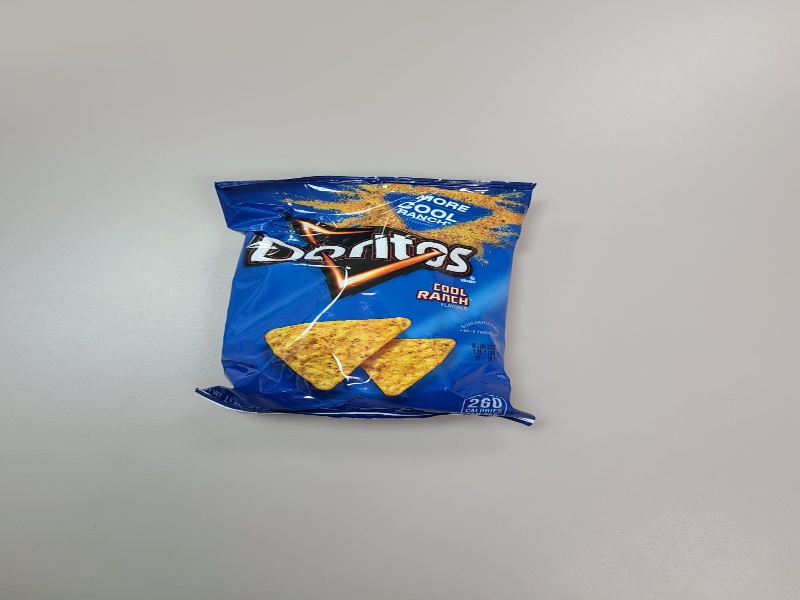doritos: (180, 161, 597, 428)
